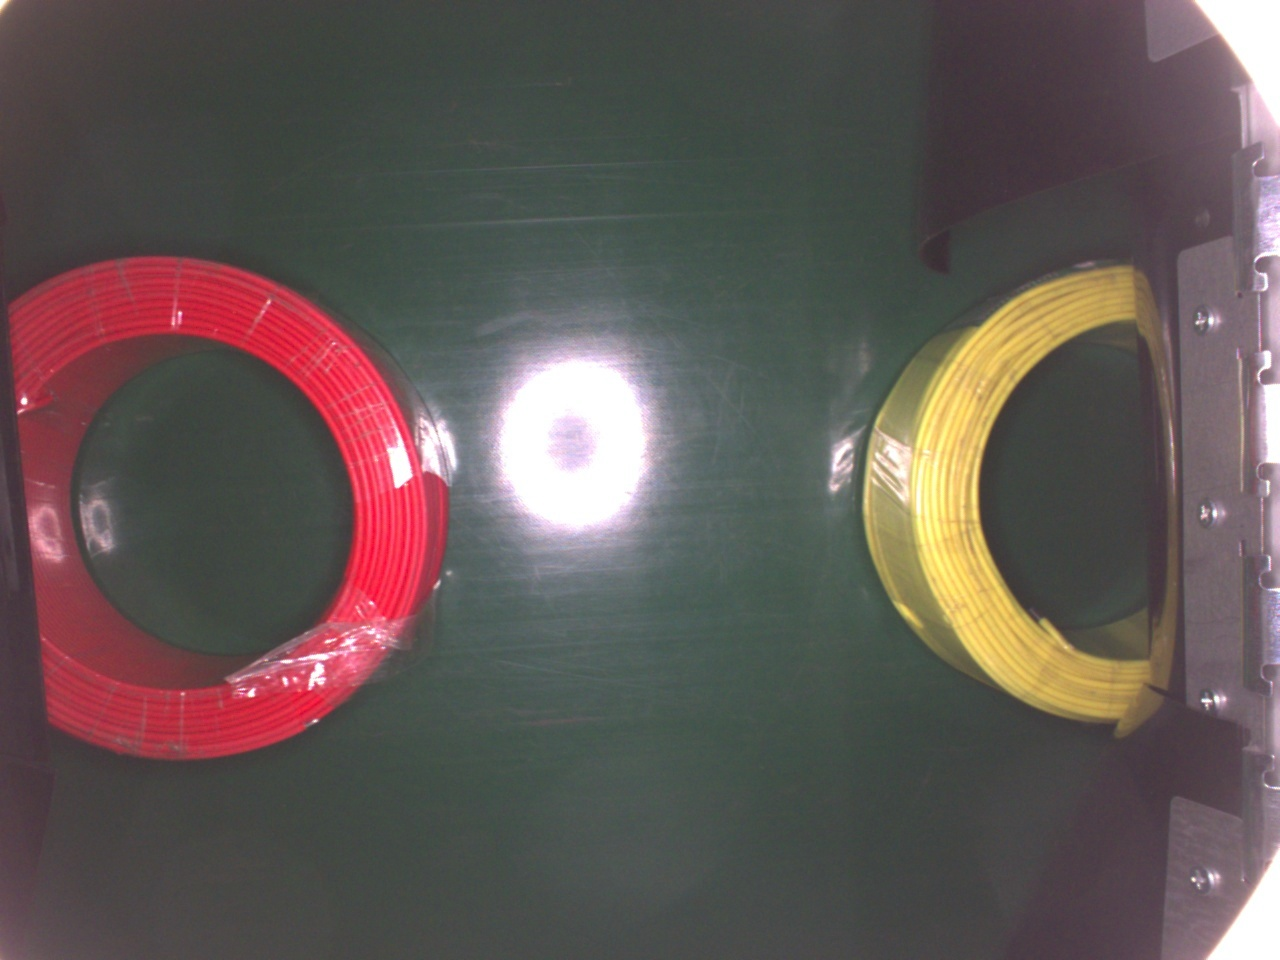red: (7, 253, 446, 765)
yellow: (856, 259, 1156, 727)
